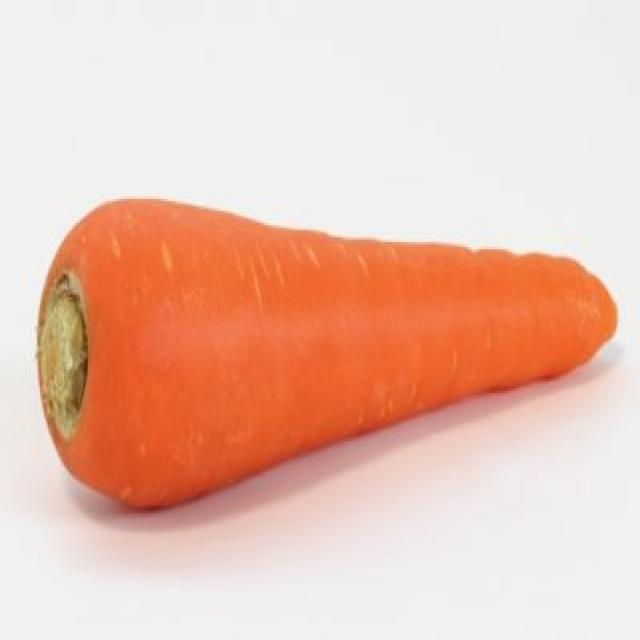Carrot: (39, 195, 612, 517)
